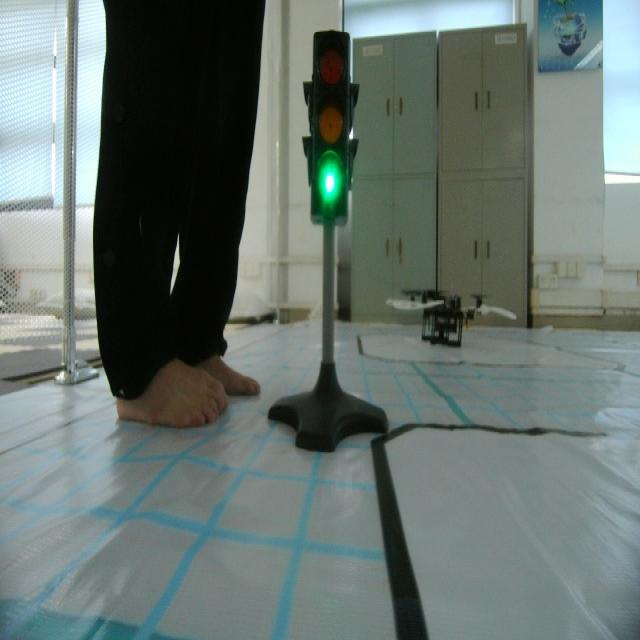green: (299, 25, 362, 236)
